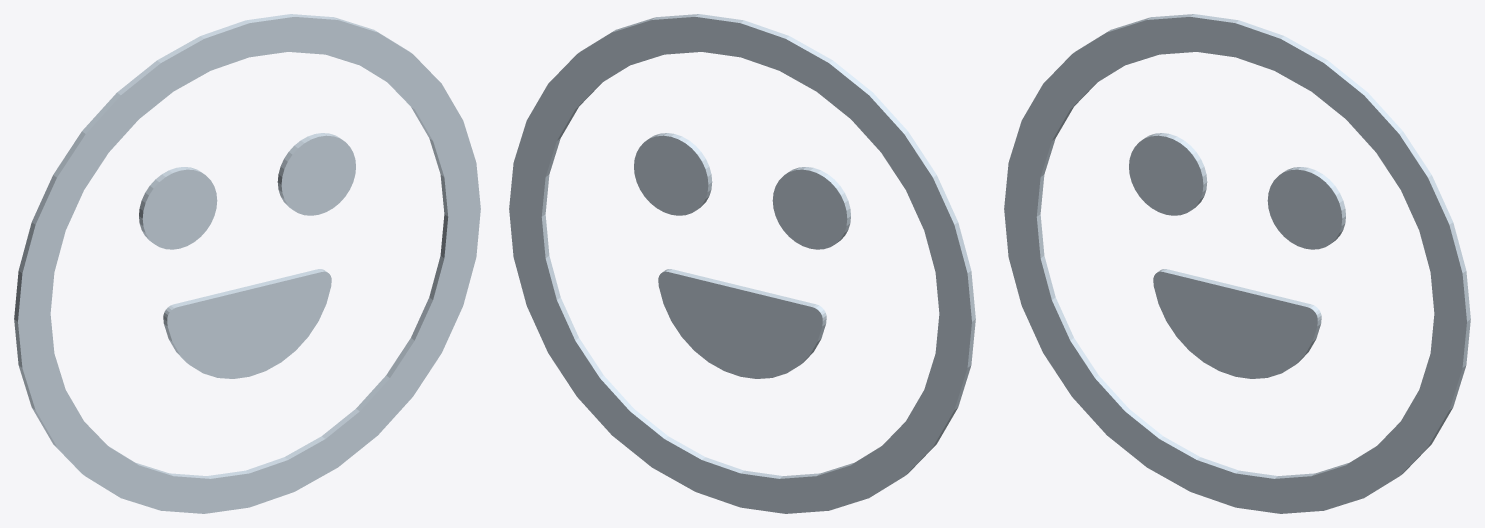
File: Happy_Face_3D_Icon_01.fbx
3 views of the same model, side by side, from view 1: azimuth 30°, elevation 25°; view 2: azimuth 150°, elevation 25°; view 3: azimuth 330°, elevation 25° (orthographic).
Parts seen in each view (by area): view 1: Happy_Face_3D_Icon_01; view 2: Happy_Face_3D_Icon_01; view 3: Happy_Face_3D_Icon_01.
Part boxes in pixels (<box>): Happy_Face_3D_Icon_01: <box>14,14,480,513</box>; Happy_Face_3D_Icon_01: <box>509,14,975,513</box>; Happy_Face_3D_Icon_01: <box>1004,14,1470,513</box>.
Bounding box in the file's own units: 139 × 139 × 2.
